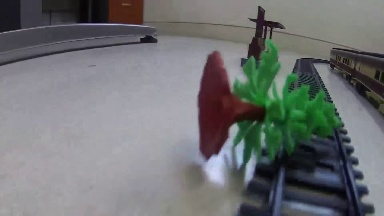tree: (189, 37, 344, 167)
